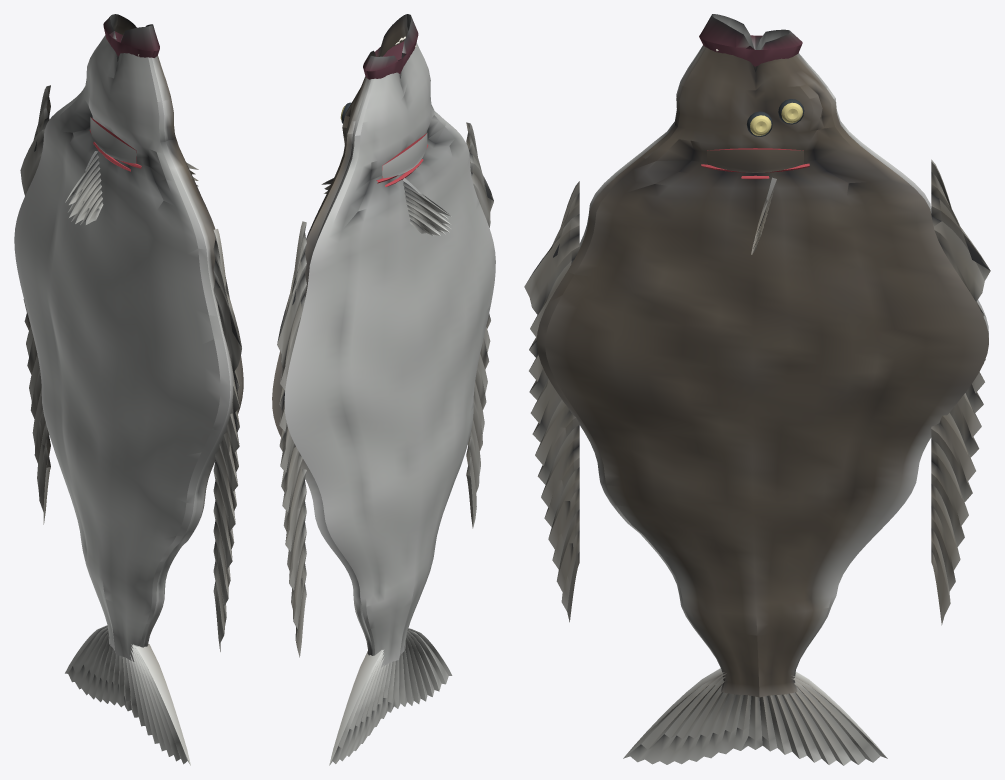
Rendered from fish_halibut.glb.
3 views of the same model, side by side, from view 1: azimuth 30°, elevation 25°; view 2: azimuth 150°, elevation 25°; view 3: azimuth 270°, elevation 25° (orthographic). The views are drawn at different scales.
Parts seen in each view (by area): view 1: Fish_halibut; view 2: Fish_halibut; view 3: Fish_halibut.
Part boxes in pixels (box(x1,y1,x2,y2)): Fish_halibut: box(14, 14, 243, 765); Fish_halibut: box(272, 14, 495, 765); Fish_halibut: box(524, 14, 990, 765).
Bounding box in the file's own units: 0.2591 × 1.32 × 0.7411.
